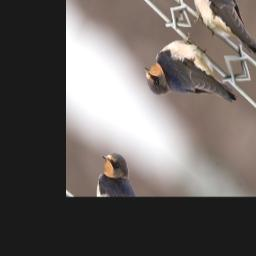Swallow: (138, 15, 246, 149)
